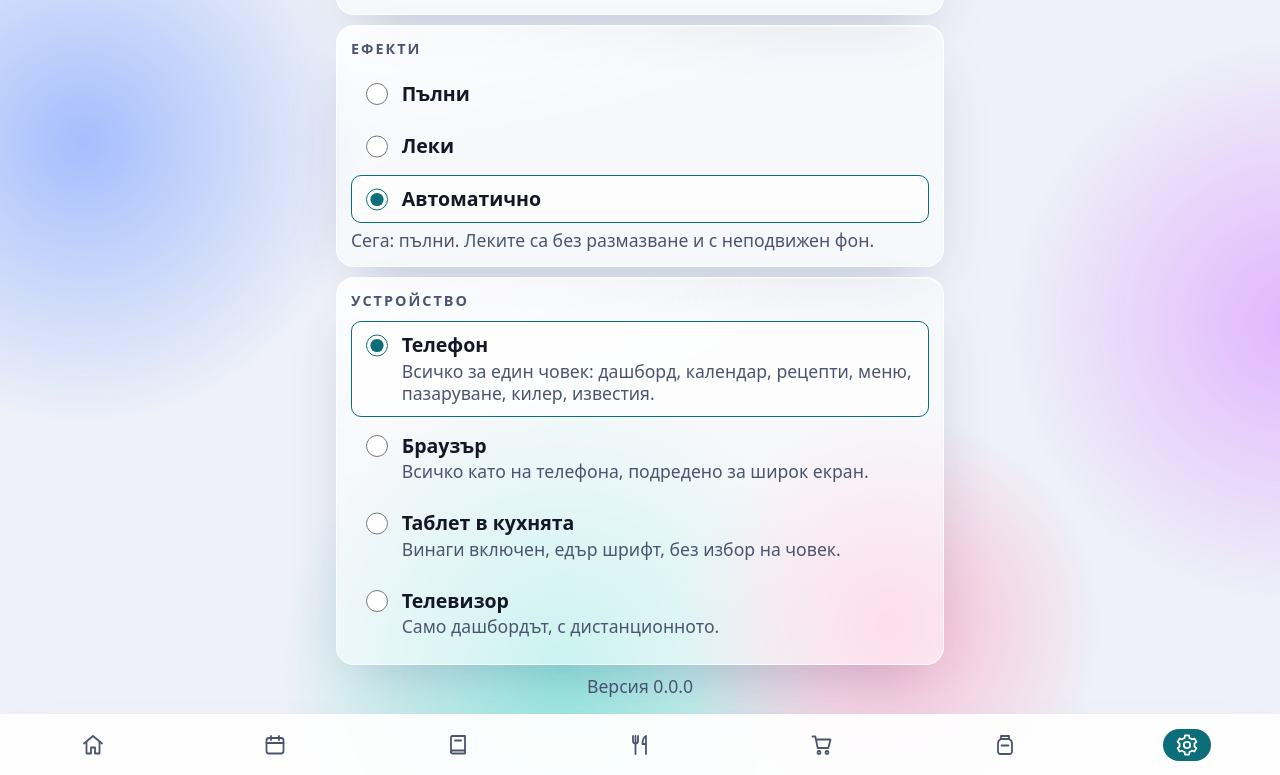
Scenario: SettingsScreen › „Смени“ сменя режима; извън телефона няма „Кой си“
(page scrolled)
What coordinates should you click on to do the following:
click the radio button labelled "Телевизор Само дашбордът, с дистанционното."
I would click on:
 (377, 601)
Its box is [366,590,388,612].
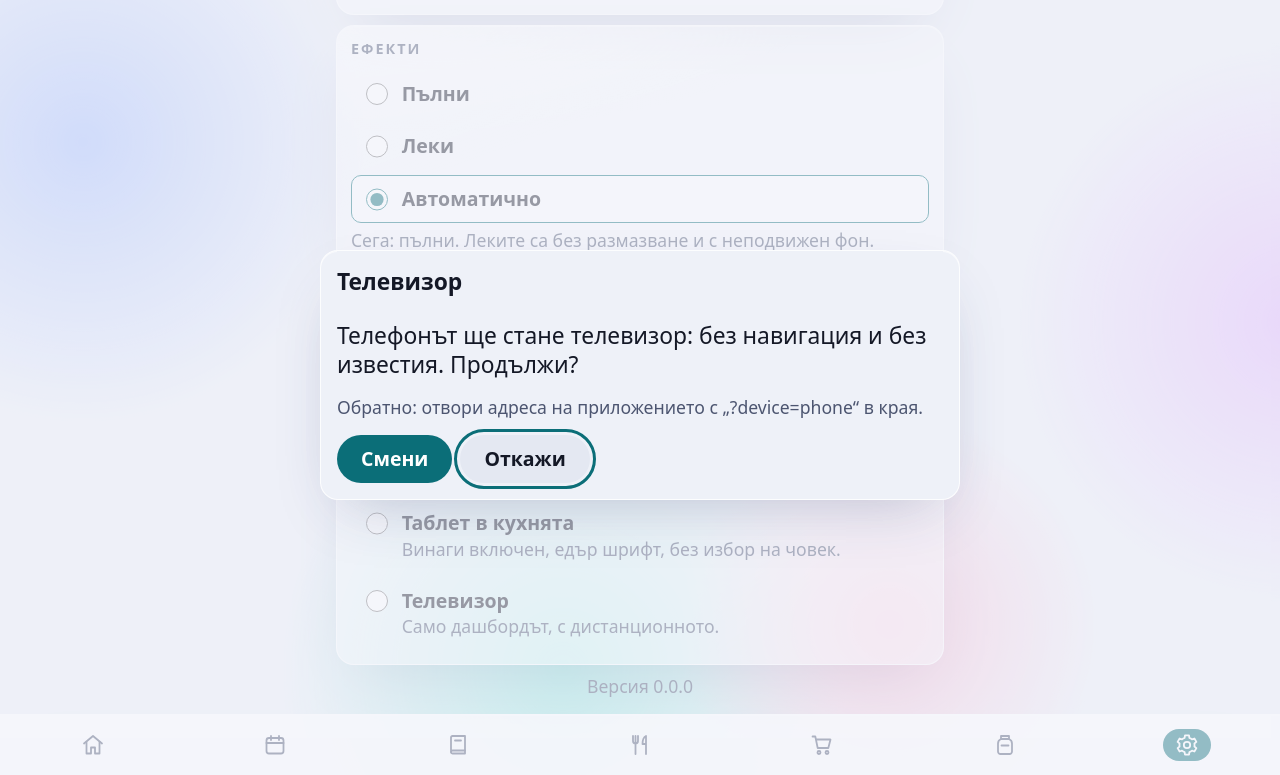
What coordinates should you click on to do the following:
click the button "Смени"
I would click on:
 (395, 459)
Its box is [337,435,452,483].
(page scrolled)
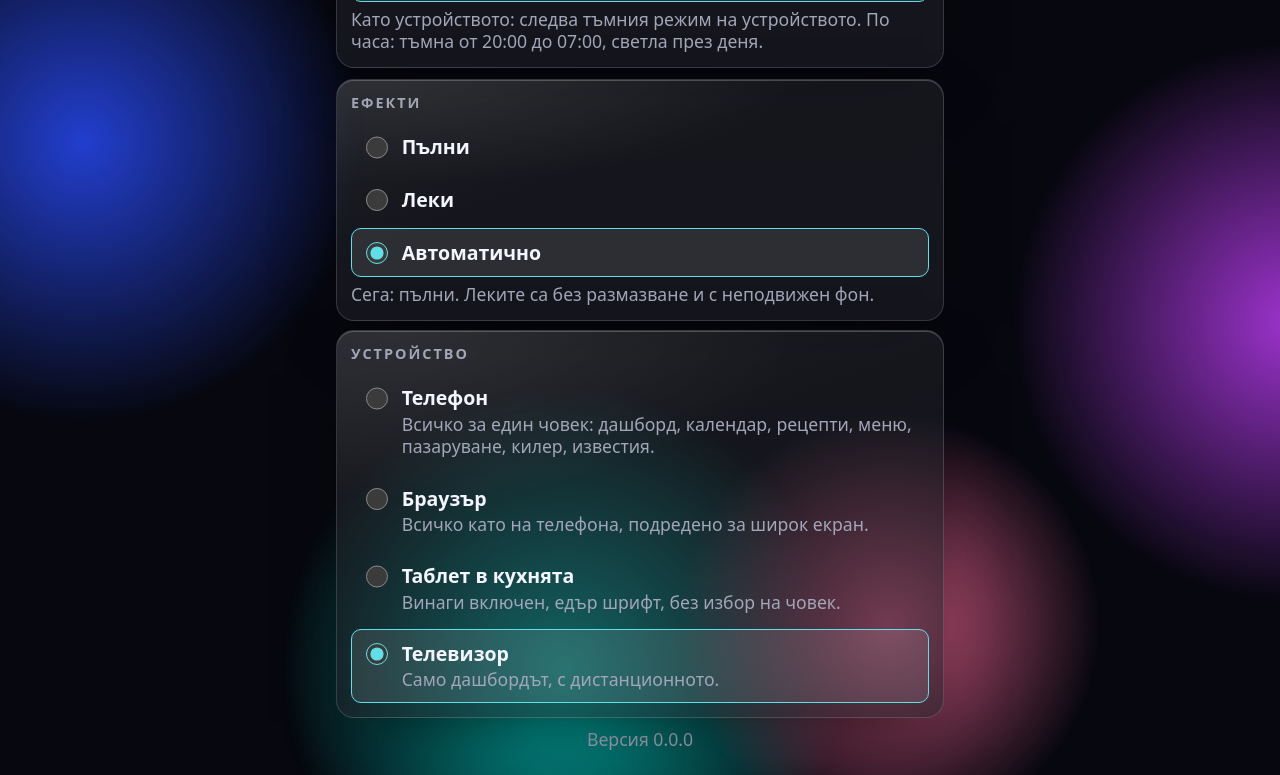
Expected: the dialog is gone
